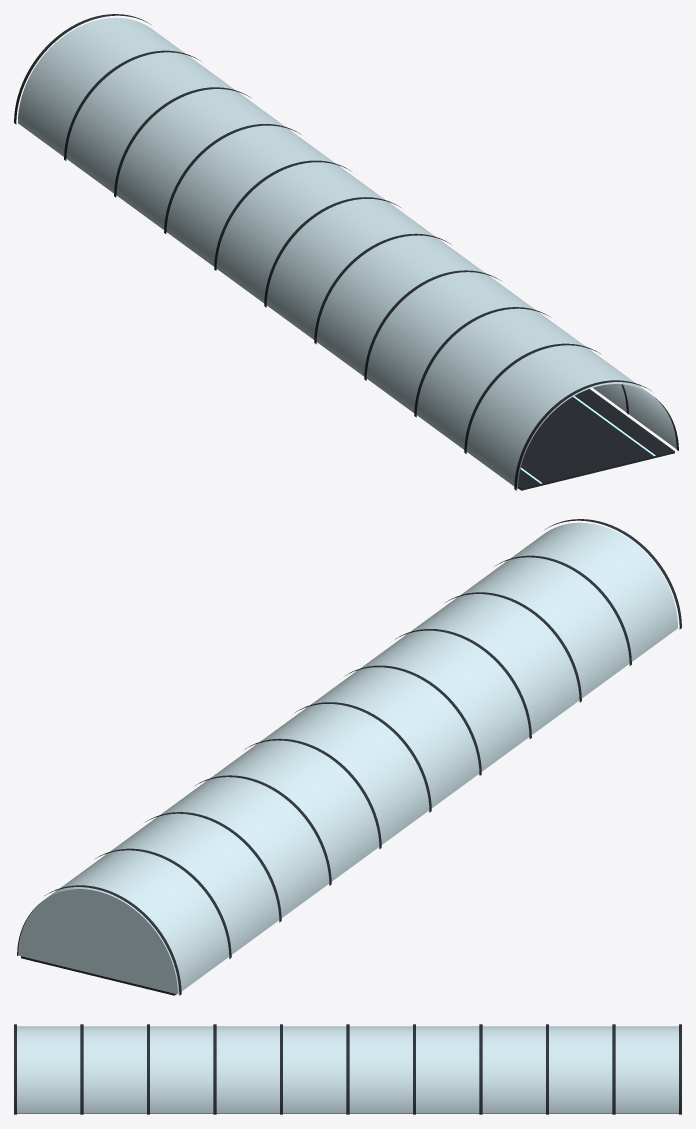
File: tunnel.glb
3 renders of one model, top to bottom at view 1: azimuth 30°, elevation 25°; view 2: azimuth 150°, elevation 25°; view 3: azimuth 270°, elevation 25°, orthographic. The views are drawn at different scales.
Parts seen in each view (by area): view 1: tunnel; view 2: tunnel; view 3: tunnel.
Boxes of the visible parts, x1=… form: tunnel: x1=14, y1=14, x2=678, y2=490; tunnel: x1=17, y1=519, x2=681, y2=995; tunnel: x1=14, y1=1024, x2=681, y2=1114.
Bounding box in the file's own units: 4.96 × 2.54 × 26.12.
